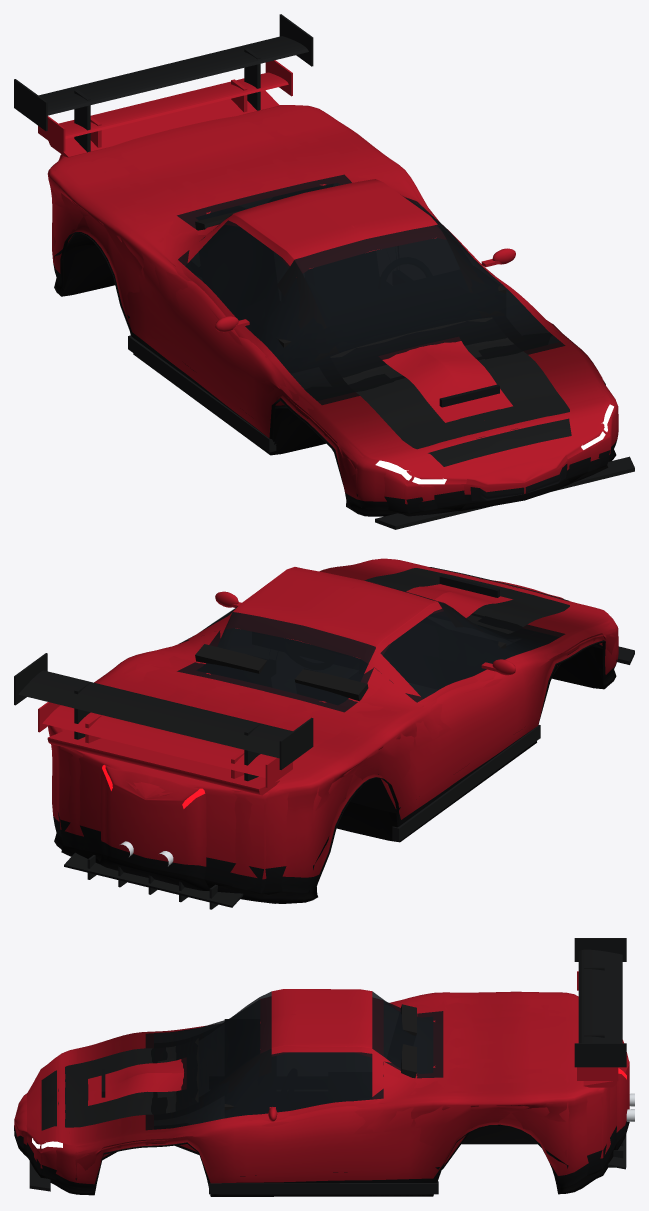
Rendered from sr_mclaren_senna.glb.
3 renders of one model, top to bottom at view 1: azimuth 30°, elevation 25°; view 2: azimuth 150°, elevation 25°; view 3: azimuth 270°, elevation 25°, orthographic. The views are drawn at different scales.
Visible parts, largest first — view 1: body (×2), hood_3, spoiler_3, hood_1, spoiler_2, bumper_1, spoiler_1, grille, mirrors, headlights; view 2: body (×2), spoiler_3, spoiler_2, bumper_1, spoiler_1, hood_3, interior, hood_1, mirrors, hood_1_intake; view 3: body (×2), spoiler_3, hood_3, bumper_1, hood_1, interior, spoiler_2.
Boxes of the visible parts, x1,y1,x2,y2 form: body (×2): (47, 105, 618, 516); hood_3: (330, 317, 571, 466); spoiler_3: (14, 14, 313, 152); hood_1: (382, 341, 512, 422); spoiler_2: (38, 60, 292, 151); bumper_1: (128, 335, 634, 529); spoiler_1: (48, 90, 279, 157); grille: (470, 464, 567, 500); mirrors: (215, 248, 515, 332); headlights: (375, 405, 613, 484); body (×2): (48, 558, 618, 903); spoiler_3: (14, 653, 313, 781); spoiler_2: (38, 702, 292, 787); bumper_1: (64, 646, 634, 909); spoiler_1: (47, 729, 279, 795); hood_3: (364, 567, 569, 633); interior: (195, 641, 506, 701); hood_1: (406, 584, 512, 617); mirrors: (215, 591, 515, 675); hood_1_intake: (439, 575, 499, 597); body (×2): (14, 989, 629, 1196); spoiler_3: (574, 938, 626, 1067); hood_3: (41, 1038, 198, 1130); bumper_1: (29, 1134, 626, 1194); hood_1: (88, 1059, 184, 1105); interior: (224, 1004, 416, 1110); spoiler_2: (577, 971, 618, 1080).
Size of the model in its own units: 2.17 by 1.32 by 4.79.
